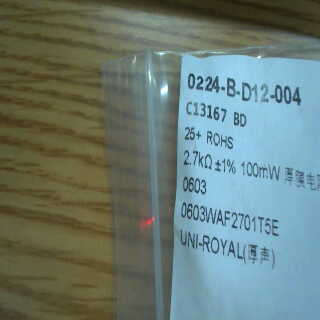2.7kR: (183, 147, 214, 173)
